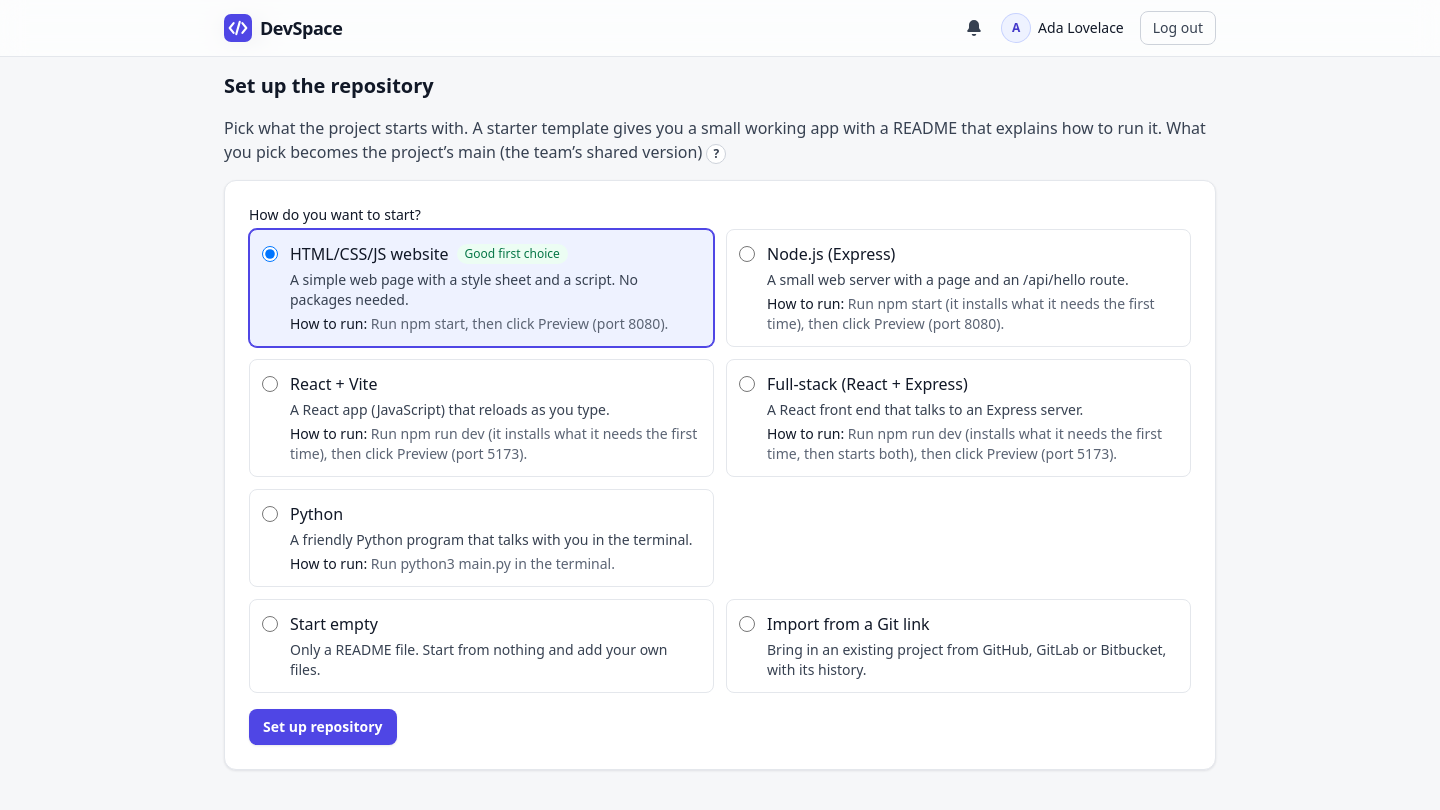
Test case: repository setup › shows the server’s reason when setting up fails
This screenshot has width=1440, height=810.
(page scrolled)
Click the button "Set up repository". click: (323, 727)
box: top-left (249, 709), bottom-right (397, 745)
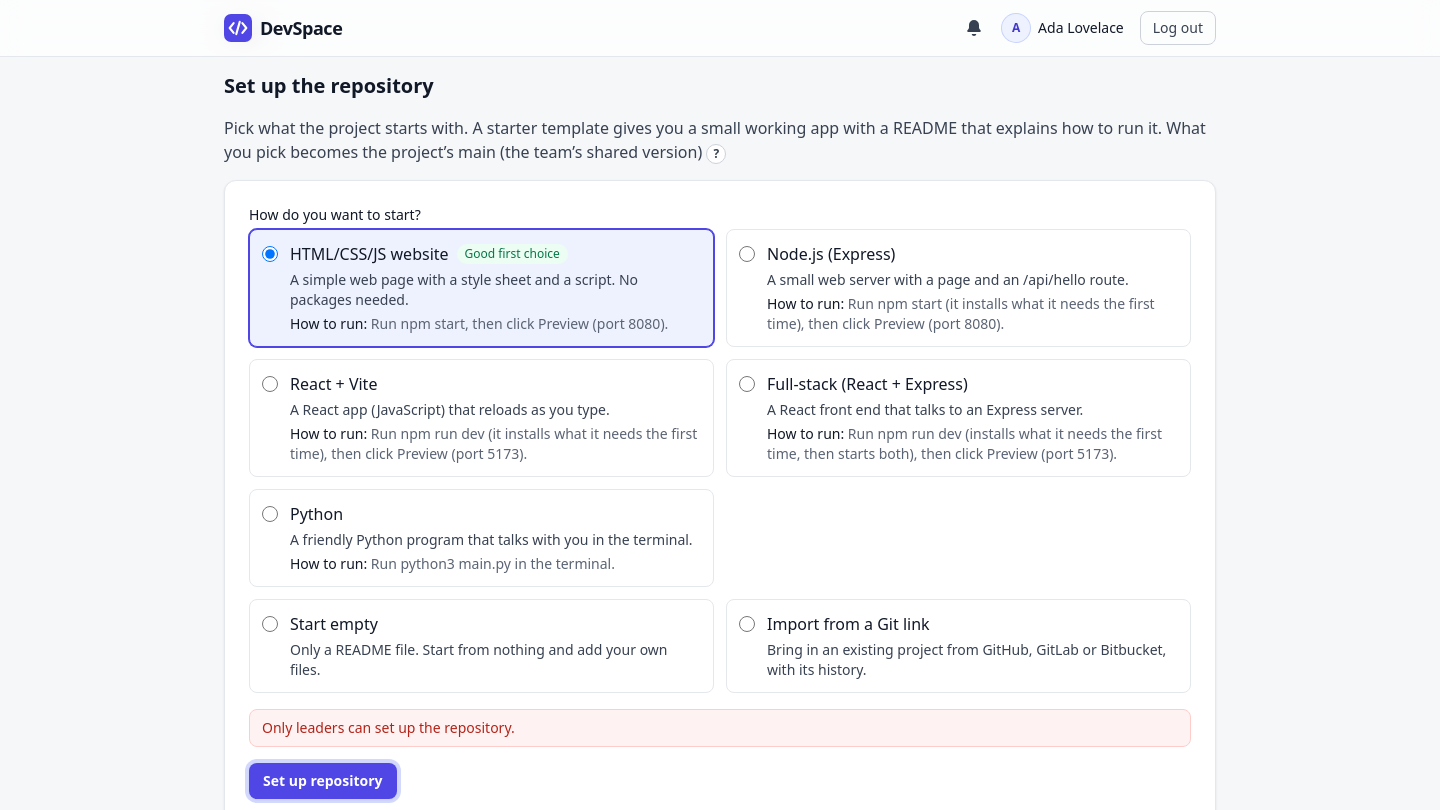
Expected: the message reads "Only leaders can set up the repository.", top-left (262, 718), bottom-right (515, 737)
